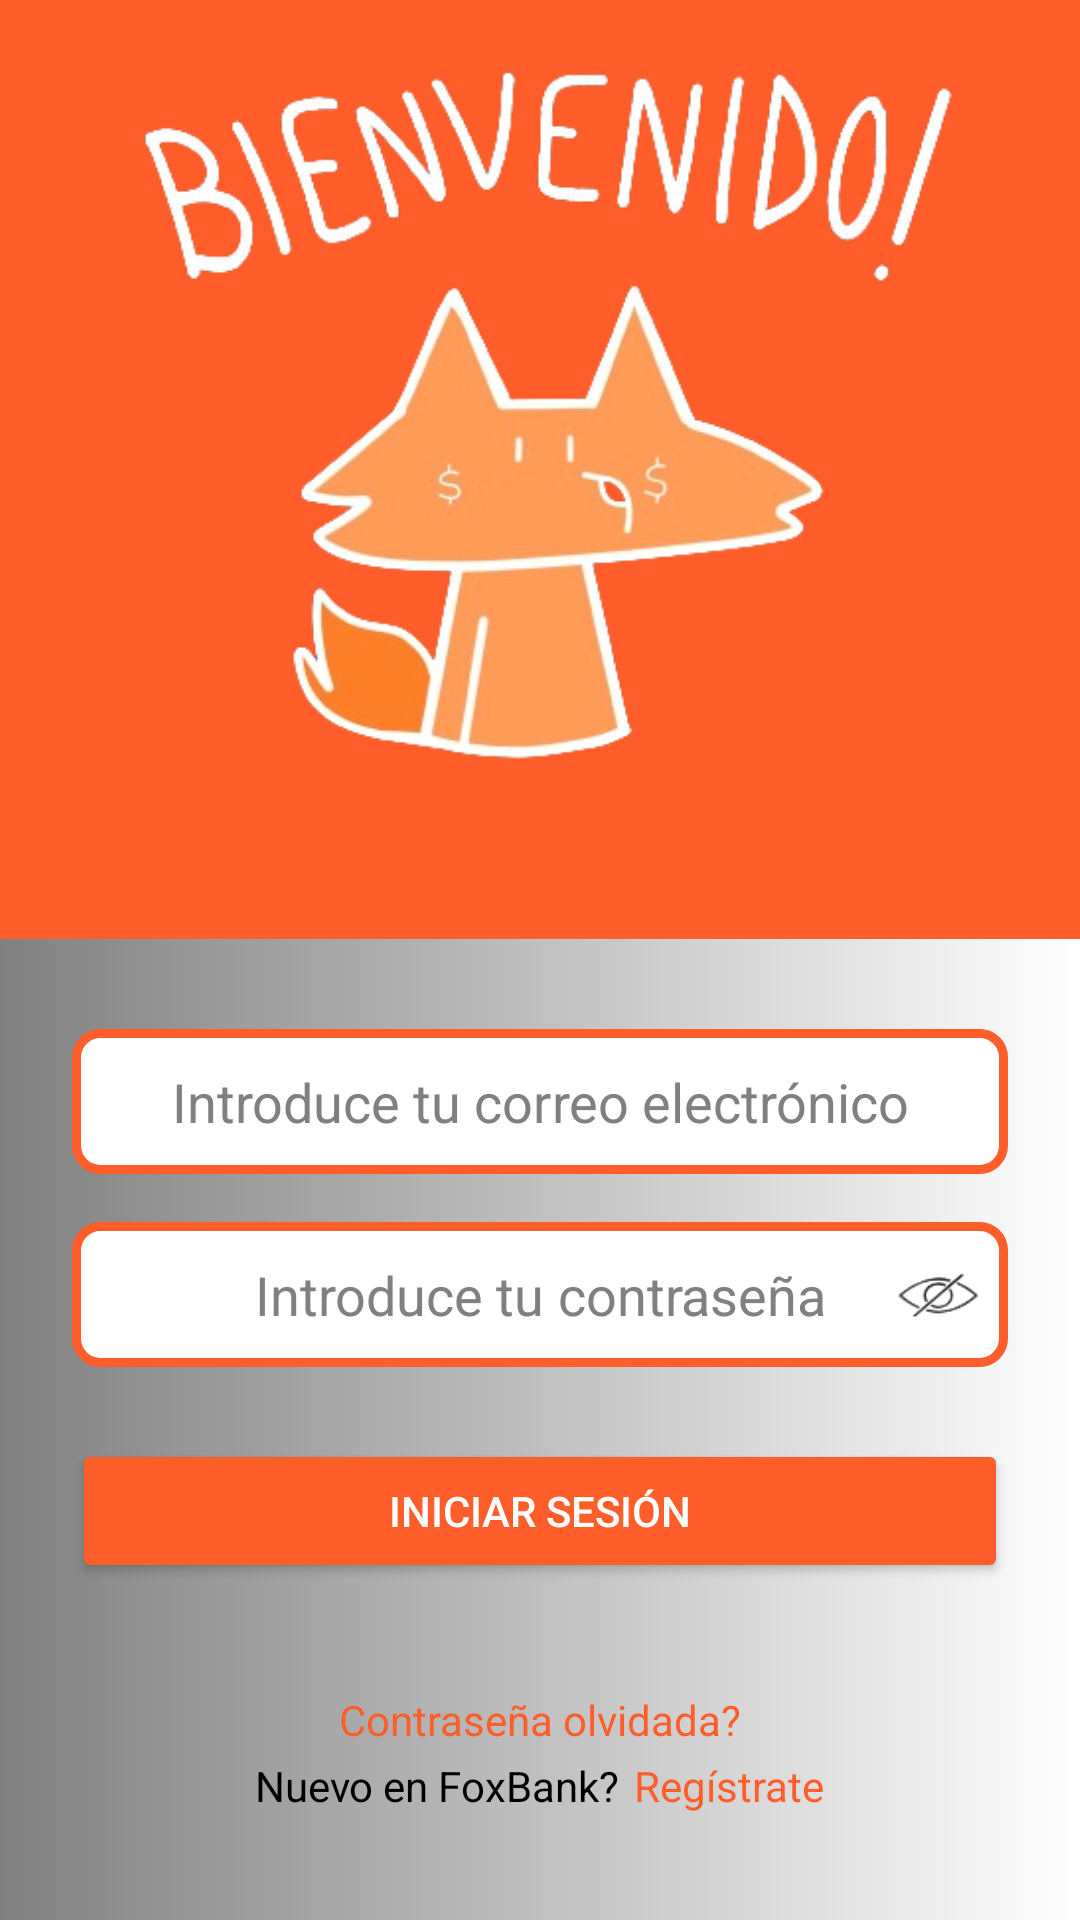

Icon click points for this 1080 x 1920 phone screenshot, format (x,y):
eye closed: (938,1295)
